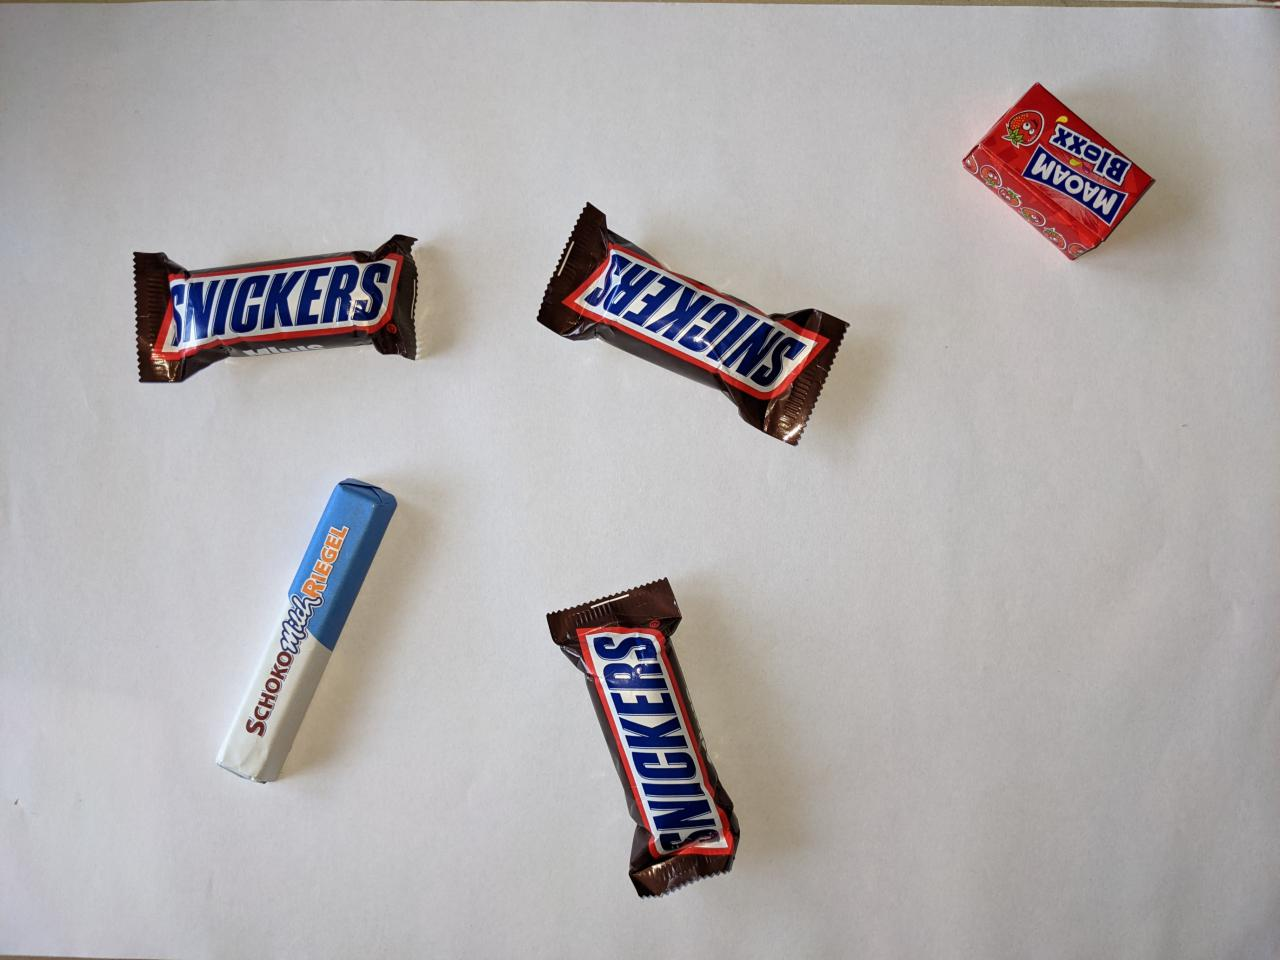MAOAM: (955, 78, 1164, 270)
Schokoriegel: (208, 473, 401, 794)
Snickers: (529, 195, 856, 457), (538, 572, 747, 907), (123, 226, 431, 390)
